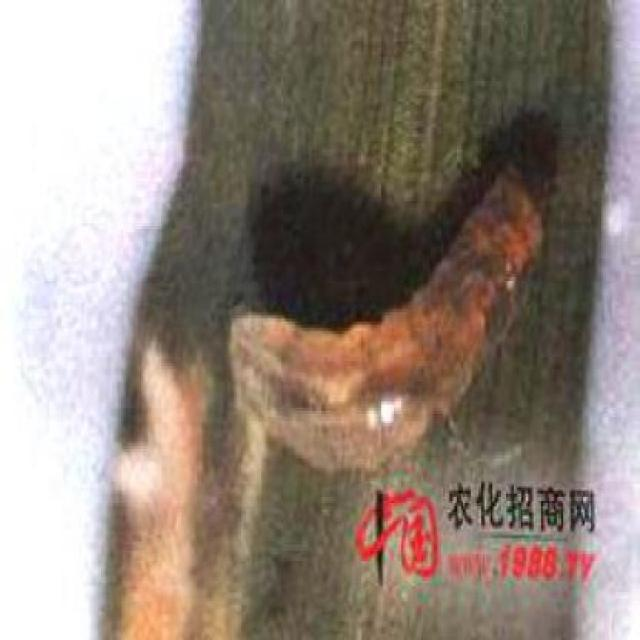whorl-maggot: (226, 154, 549, 479)
